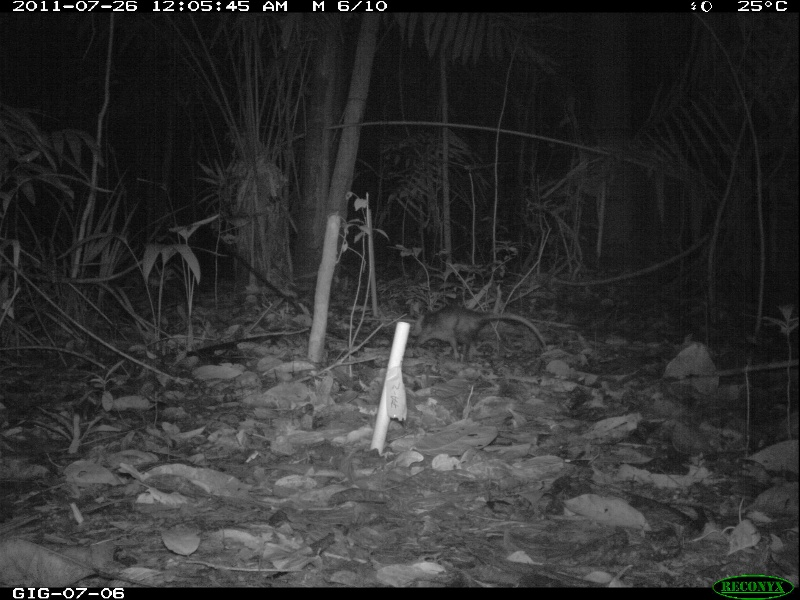opossum: (408, 299, 548, 365)
